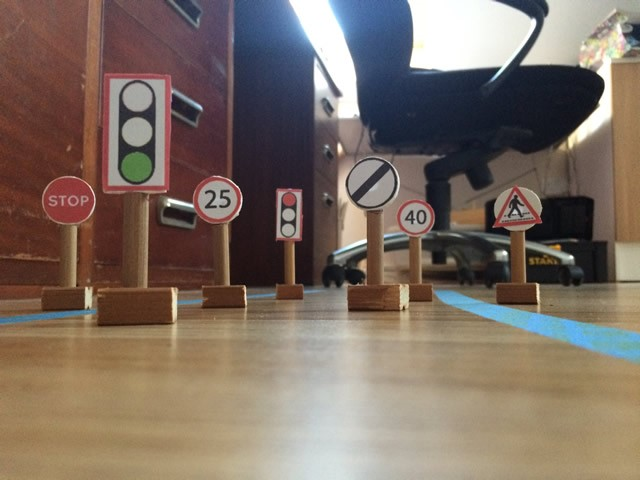Full Speed: (345, 156, 400, 207)
Green Traffic Light: (103, 75, 172, 193)
Person Crossing: (492, 185, 542, 233)
Red Traffic Light: (272, 187, 302, 240)
Speed Limit 25: (194, 176, 242, 223)
Speed Limit 40: (401, 200, 434, 237)
Stop Sign: (40, 176, 95, 226)
